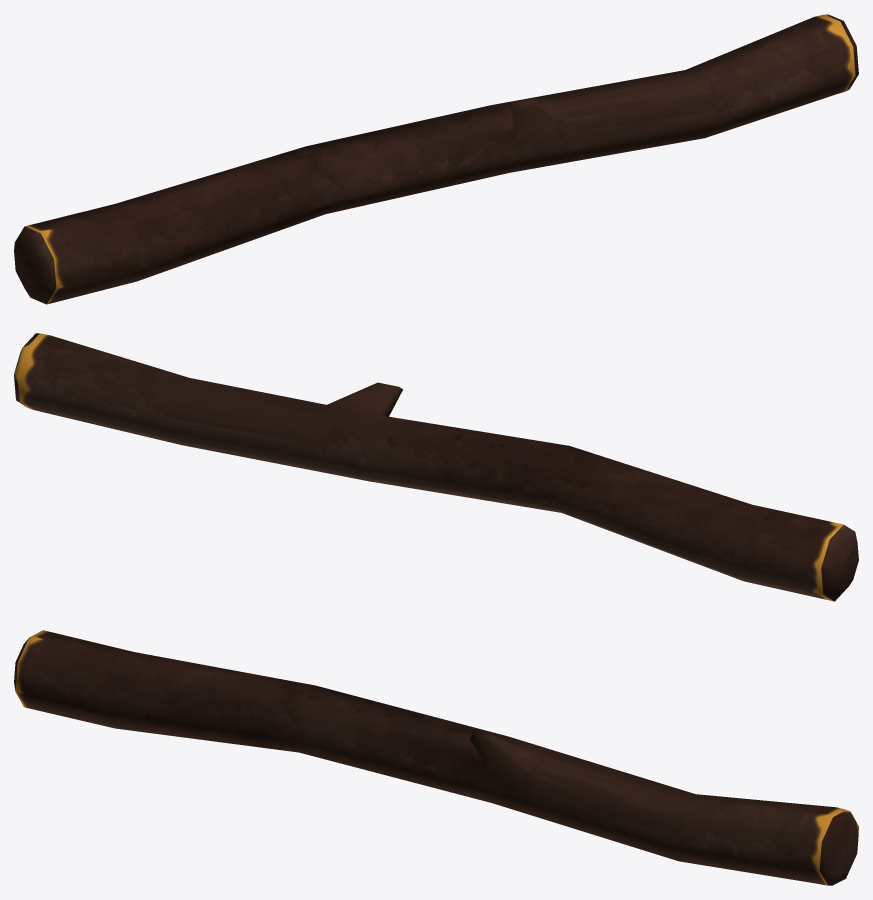
Rendered from stick.fbx.
3 renders of one model, top to bottom at view 1: azimuth 30°, elevation 25°; view 2: azimuth 150°, elevation 25°; view 3: azimuth 330°, elevation 25°, orthographic. The views are drawn at different scales.
Parts seen in each view (by area): view 1: Cylinder.031; view 2: Cylinder.031; view 3: Cylinder.031.
Boxes of the visible parts, x1,y1,x2,y2 form: Cylinder.031: (14, 14, 858, 304); Cylinder.031: (14, 333, 858, 601); Cylinder.031: (14, 630, 858, 885).
Size of the model in its own units: 240 by 26.33 by 25.17.
